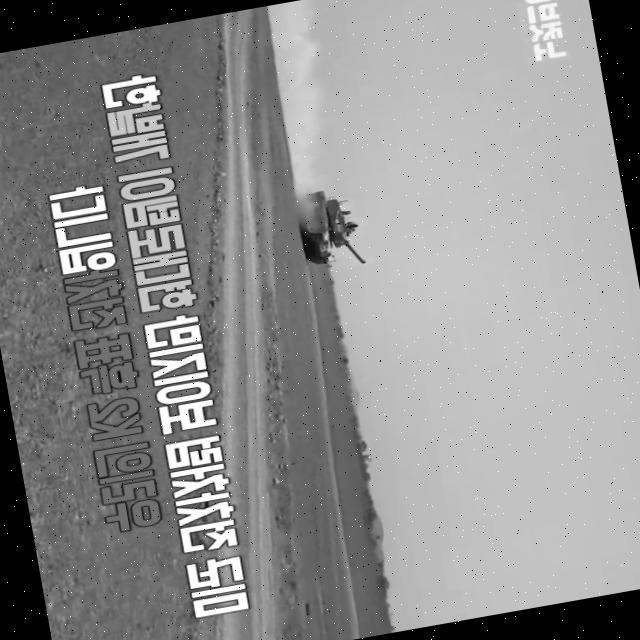korea tank: (293, 183, 368, 275)
